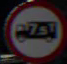Heavy Vehicles: (6, 5, 62, 51)
